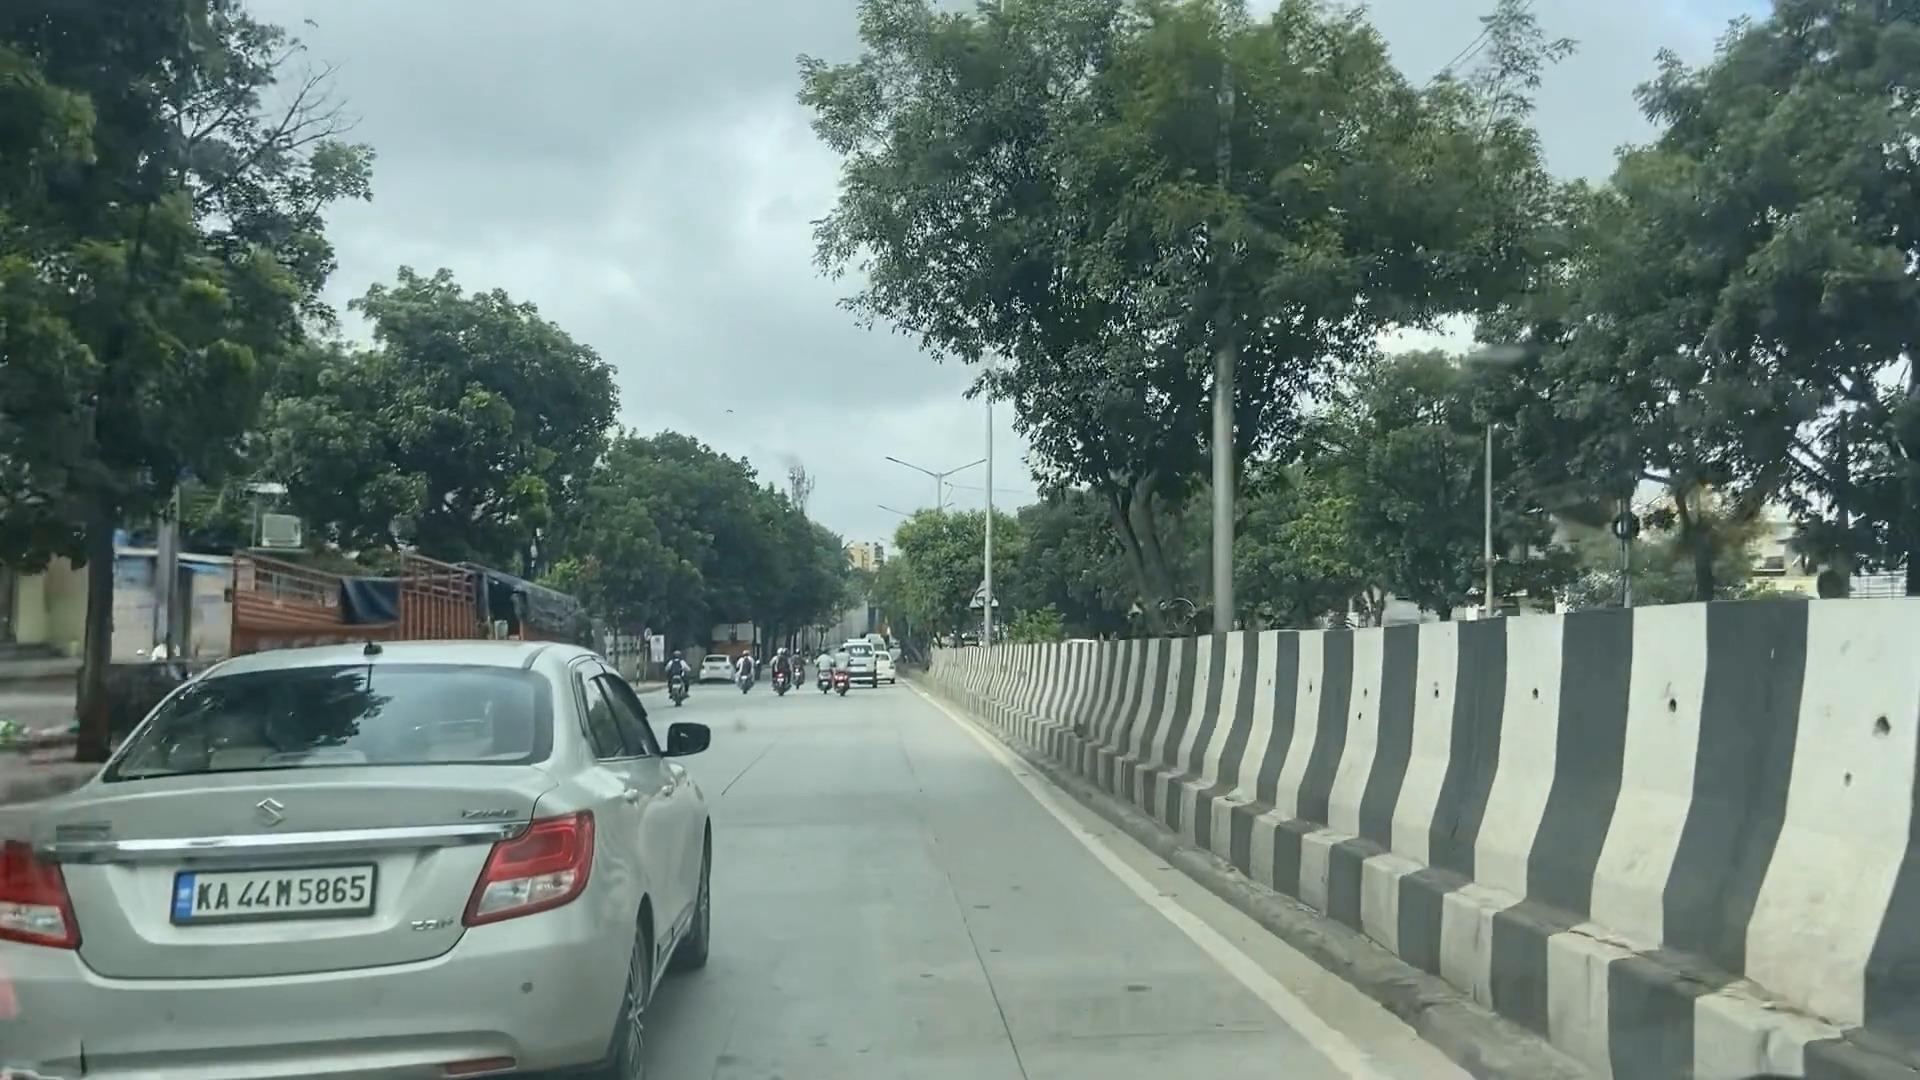LMV: (46, 618, 713, 1080)
